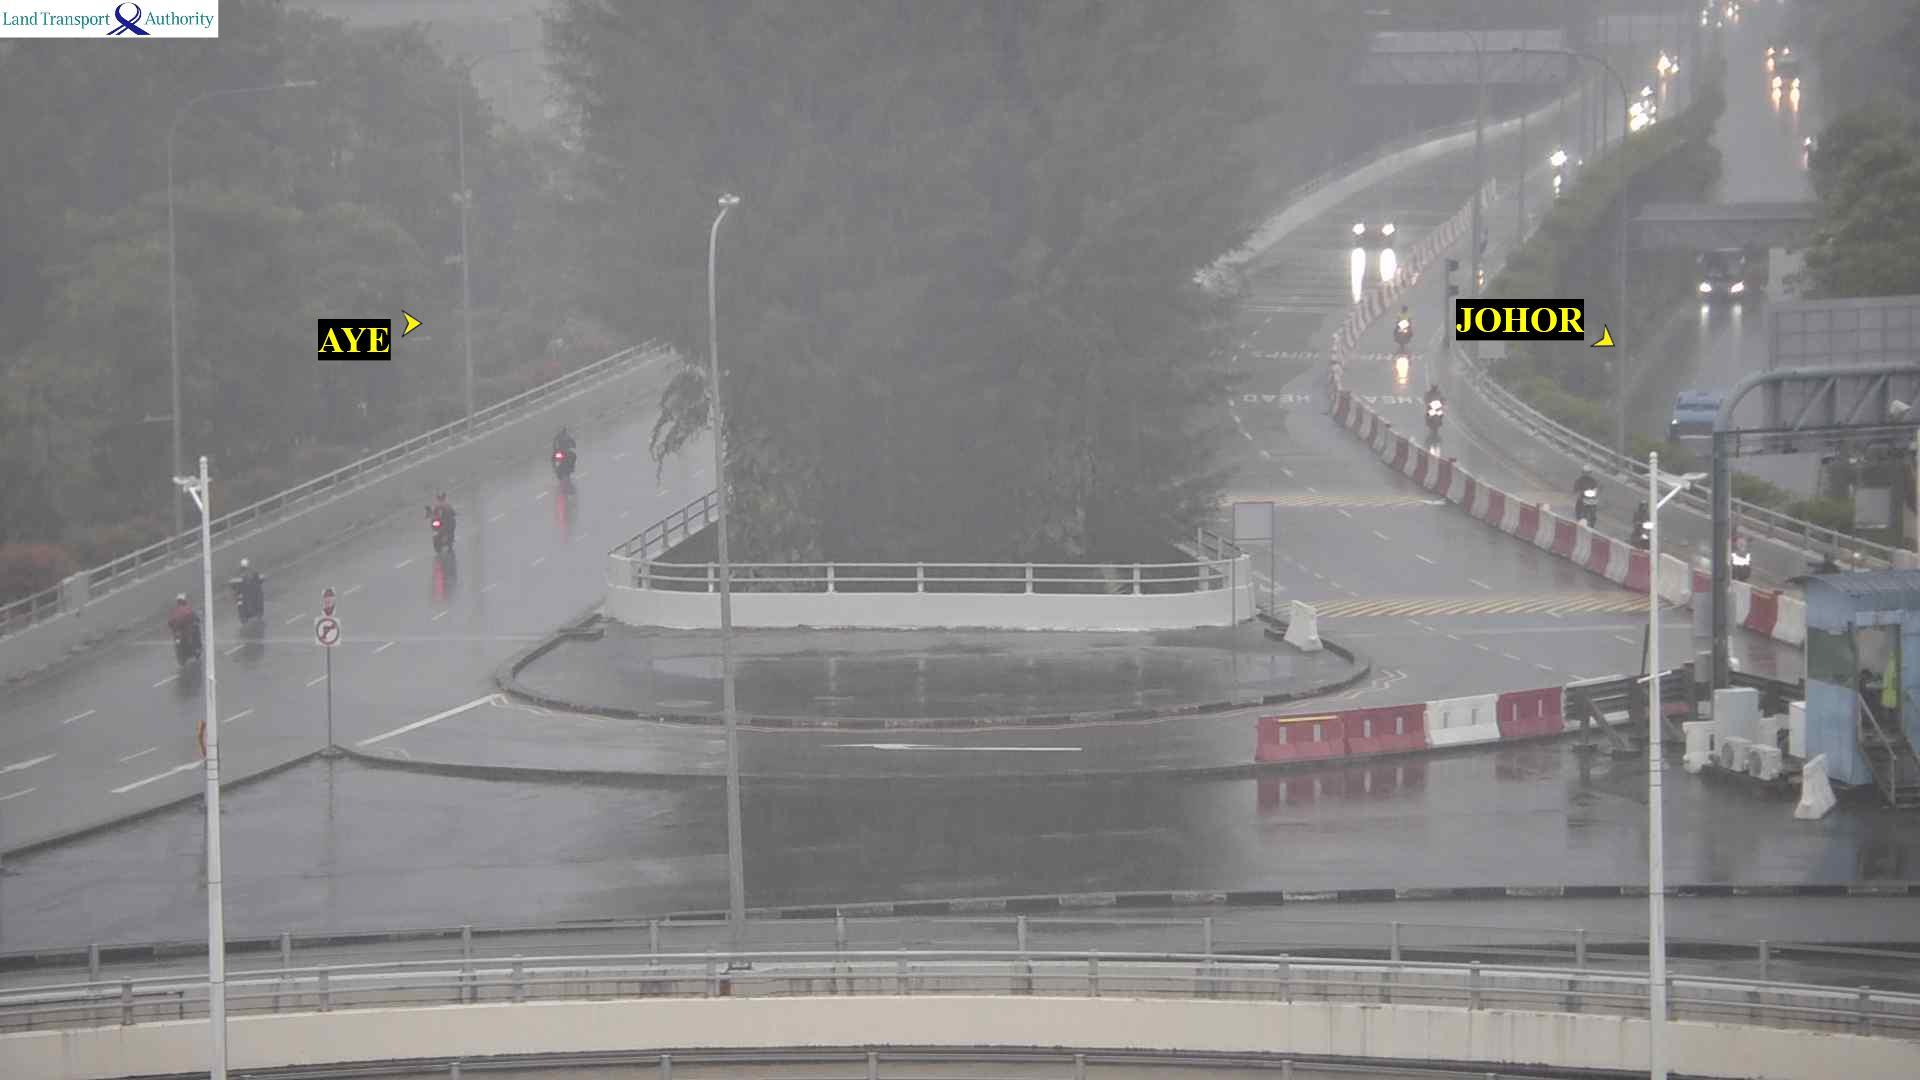vehicle-secondlink-johor: (1356, 211, 1395, 248), (1575, 463, 1596, 524), (1424, 380, 1444, 427), (1734, 527, 1754, 575), (1633, 501, 1650, 550), (1396, 305, 1414, 344), (1549, 144, 1569, 174)
vehicle-secondlink-singapore: (169, 592, 202, 663), (233, 553, 265, 625), (431, 491, 456, 547), (554, 426, 578, 481)
